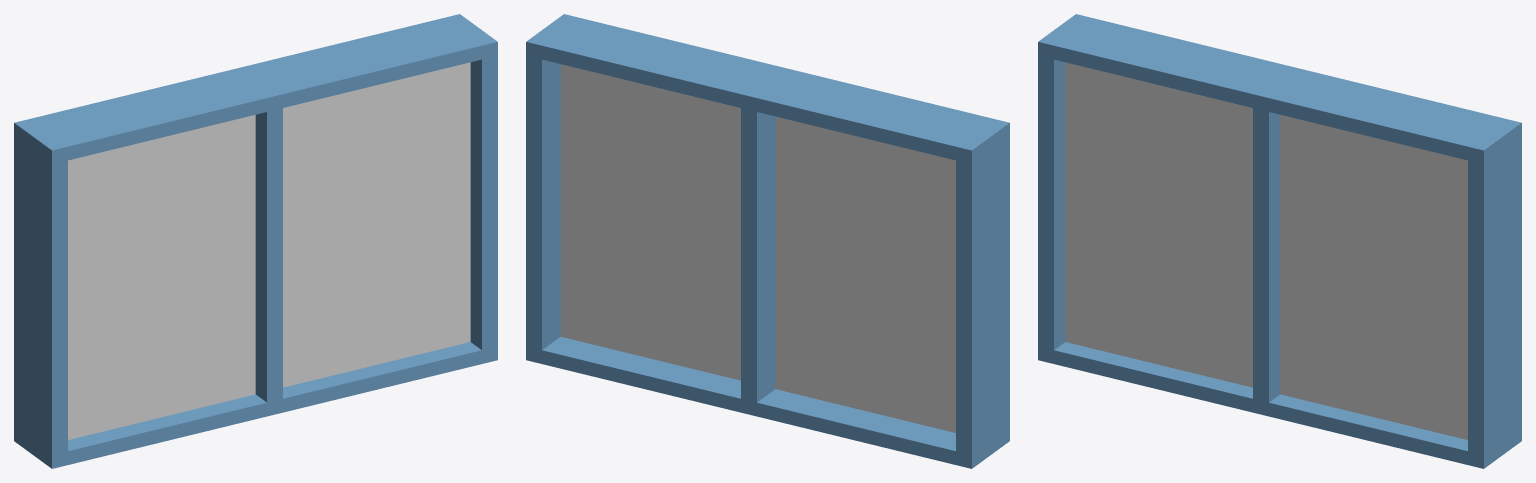
The model's file is G_p_fenster_klein1.fbx.
The picture shows the model from 3 angles, left to right: view 1: azimuth 30°, elevation 25°; view 2: azimuth 150°, elevation 25°; view 3: azimuth 330°, elevation 25°; orthographic projection.
Parts seen in each view (by area): view 1: Fenster.005; view 2: Fenster.005; view 3: Fenster.005.
Part boxes in pixels (left/top/right/bottom): Fenster.005: left=14, top=14, right=497, bottom=468; Fenster.005: left=526, top=14, right=1009, bottom=468; Fenster.005: left=1038, top=14, right=1521, bottom=468.
Size of the model in its own units: 68.78 by 46.95 by 10.15.
